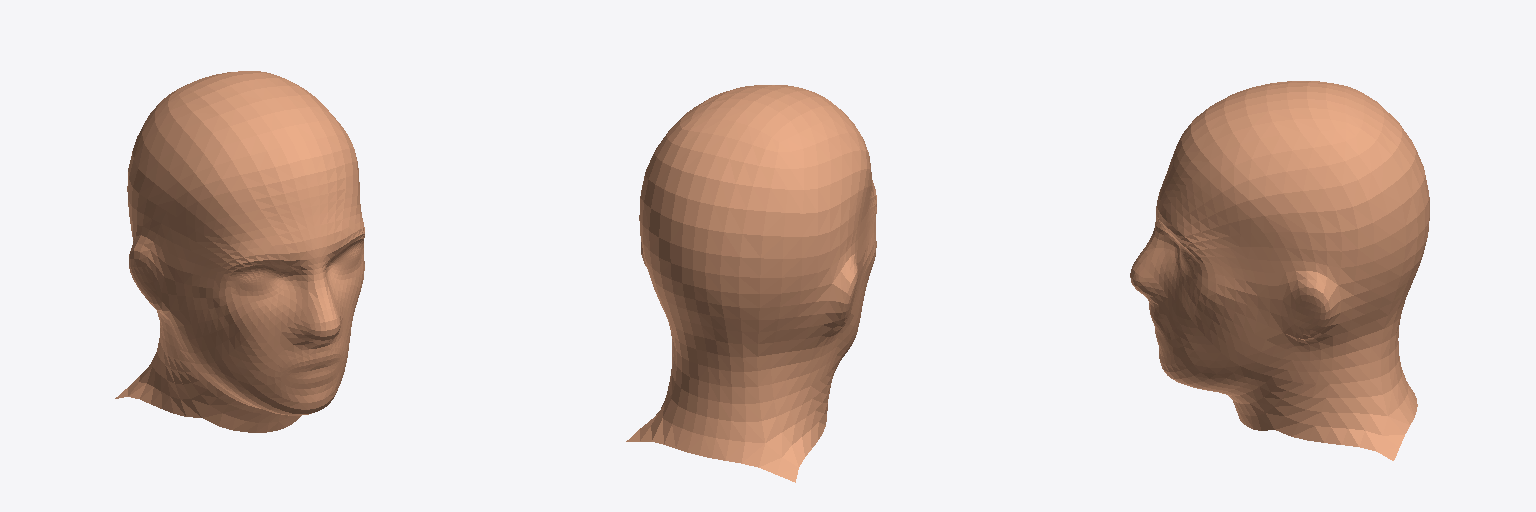
3 renders of one model, left to right at view 1: azimuth 30°, elevation 25°; view 2: azimuth 150°, elevation 25°; view 3: azimuth 270°, elevation 25°, orthographic.
Visible parts, largest first — view 1: superman:humanBody; view 2: superman:humanBody; view 3: superman:humanBody.
Part boxes in pixels (bbox=[...]): superman:humanBody: bbox=[115, 71, 364, 432]; superman:humanBody: bbox=[626, 85, 876, 482]; superman:humanBody: bbox=[1130, 81, 1429, 460].
Bounding box in the file's own units: 1.16 × 1.72 × 1.43.